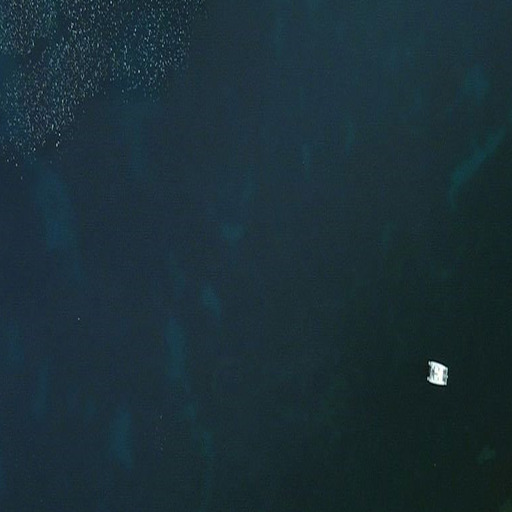ship: (424, 358, 449, 388)
